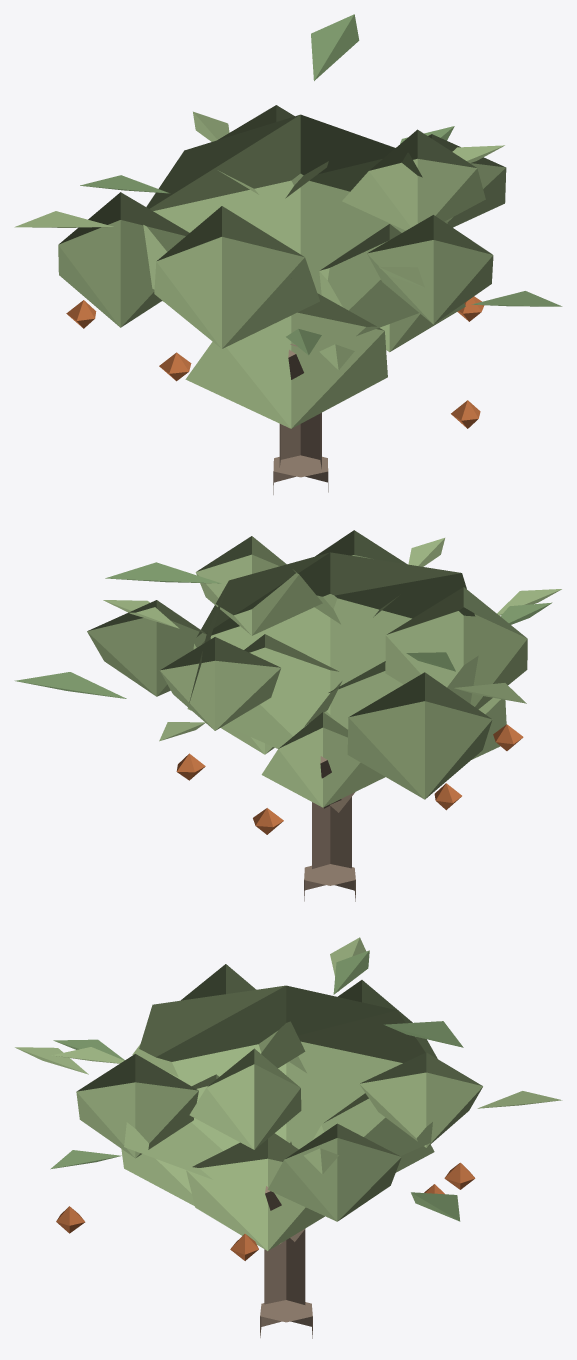
The model's file is shu.ganju__summer.glb.
The picture shows the model from 3 angles, top to bottom: view 1: azimuth 30°, elevation 25°; view 2: azimuth 150°, elevation 25°; view 3: azimuth 270°, elevation 25°; orthographic projection. The views are drawn at different scales.
Visible parts, largest first — view 1: shu.ganju__summer; view 2: shu.ganju__summer; view 3: shu.ganju__summer.
Part boxes in pixels (left/top/right/bottom): shu.ganju__summer: left=14, top=14, right=562, bottom=494; shu.ganju__summer: left=14, top=530, right=561, bottom=901; shu.ganju__summer: left=15, top=937, right=562, bottom=1338.
Size of the model in its own units: 7.1 by 5.12 by 7.18.
